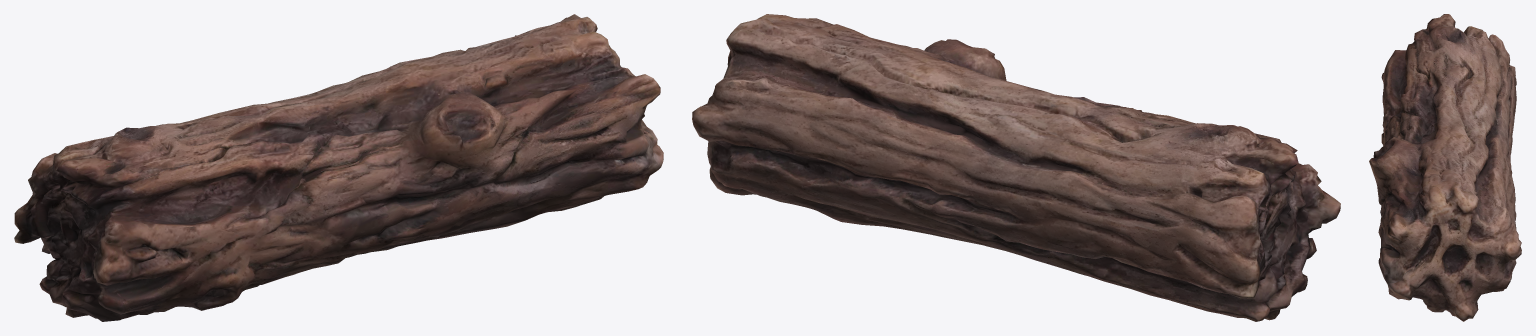
File: log.glb
The picture shows the model from 3 angles, left to right: view 1: azimuth 30°, elevation 25°; view 2: azimuth 150°, elevation 25°; view 3: azimuth 270°, elevation 25°; orthographic projection. The views are drawn at different scales.
Visible parts, largest first — view 1: tripo_node_e95c938d-c96f-491e-a16c-ed2cb25ac944; view 2: tripo_node_e95c938d-c96f-491e-a16c-ed2cb25ac944; view 3: tripo_node_e95c938d-c96f-491e-a16c-ed2cb25ac944.
Part boxes in pixels (box(x1,y1,x2,y2)): tripo_node_e95c938d-c96f-491e-a16c-ed2cb25ac944: box(14, 14, 663, 321); tripo_node_e95c938d-c96f-491e-a16c-ed2cb25ac944: box(692, 14, 1340, 321); tripo_node_e95c938d-c96f-491e-a16c-ed2cb25ac944: box(1369, 14, 1521, 321).
Bounding box in the file's own units: 1 × 0.2889 × 0.3194.
Materials: 1 (1 with a texture image).
